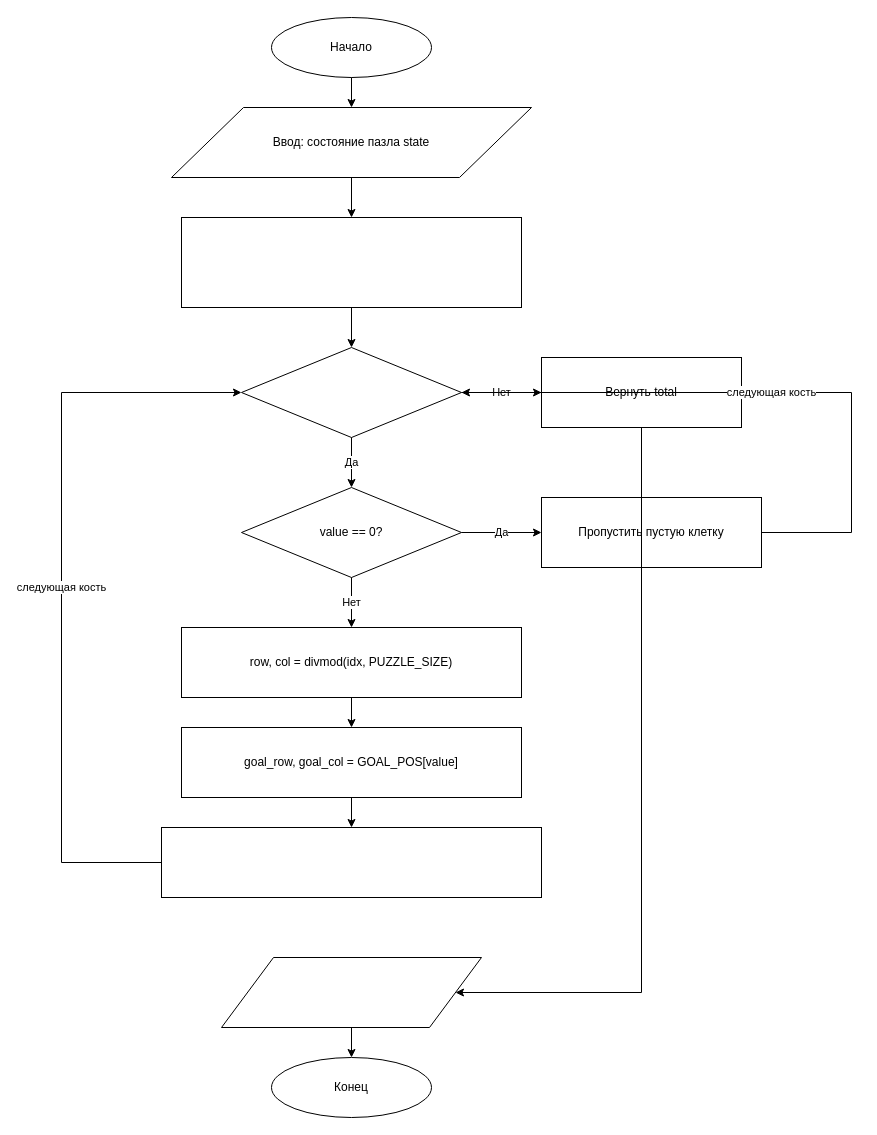
This 877x1135 diagram has some shape labels left out. The centre of each missing label's shape, as x and y in pixels:
total += |row-goal_row| + |col-goal_col|: the point at 351,862
total = 0 перебор всех (idx, value) в state: the point at 351,262
Вывод: Manhattan distance total: the point at 351,992
Есть следующая кость?: the point at 351,392
